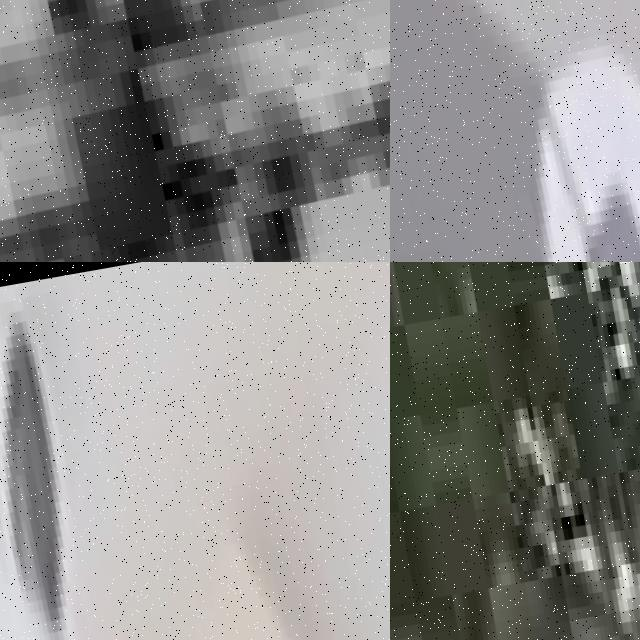0: (0, 0, 390, 262)
drone: (0, 262, 390, 640), (390, 0, 640, 262)
